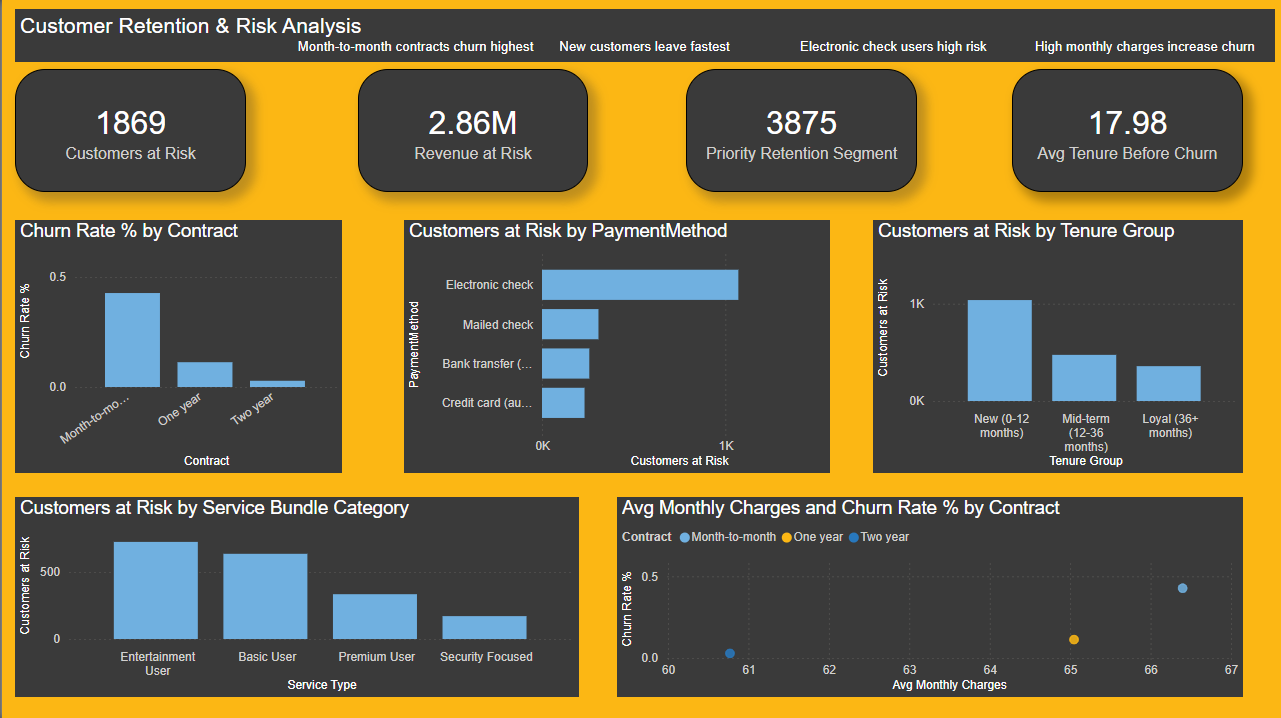

The page's visual inventory and layout, read from the dashboard file:
{"tool":"powerbi","page":{"name":"Customer Retention & Risk Analysis","canvas":[1280,720],"ordinal":3},"visuals":[{"type":"textbox","box":[13,9,1260,53],"z":0},{"type":"card","fields":{"Values":["WA_Fn-UseC_-Telco-Customer-Churn.Customers at Risk"]},"box":[13,69,231,123],"z":1},{"type":"card","fields":{"Values":["WA_Fn-UseC_-Telco-Customer-Churn.Revenue at Risk"]},"box":[356,69,230,123],"z":2},{"type":"card","fields":{"Values":["WA_Fn-UseC_-Telco-Customer-Churn.Priority Retention Segment"]},"box":[684,69,231,123],"z":3},{"type":"card","fields":{"Values":["WA_Fn-UseC_-Telco-Customer-Churn.Avg Tenure Before Churn"]},"box":[1010,69,231,123],"z":4},{"type":"columnChart","fields":{"Y":["WA_Fn-UseC_-Telco-Customer-Churn.Churn Rate %"],"Category":["WA_Fn-UseC_-Telco-Customer-Churn.Contract"]},"box":[13,220,327,253],"z":5},{"type":"clusteredBarChart","fields":{"Y":["WA_Fn-UseC_-Telco-Customer-Churn.Customers at Risk"],"Category":["WA_Fn-UseC_-Telco-Customer-Churn.PaymentMethod"]},"box":[402,220,426,253],"z":6},{"type":"columnChart","fields":{"Y":["WA_Fn-UseC_-Telco-Customer-Churn.Customers at Risk"],"Category":["WA_Fn-UseC_-Telco-Customer-Churn.Tenure Group"]},"box":[871,220,370,253],"z":7},{"type":"columnChart","title":"Customers at Risk by Service Bundle Category","fields":{"Y":["WA_Fn-UseC_-Telco-Customer-Churn.Customers at Risk"],"Category":["WA_Fn-UseC_-Telco-Customer-Churn.Service Type"]},"box":[13,497,564,200],"z":8},{"type":"scatterChart","fields":{"X":["WA_Fn-UseC_-Telco-Customer-Churn.Avg Monthly Charges"],"Y":["WA_Fn-UseC_-Telco-Customer-Churn.Churn Rate %"],"Series":["WA_Fn-UseC_-Telco-Customer-Churn.Contract"]},"box":[615,497,626,200],"z":9}]}

Visuals, with their boxes in screenshot pixels (x1, y1, x2, y2), scaled from the page's 1280x720 canvas onto the 1281x718 screenshot:
textbox: x1=13, y1=9, x2=1274, y2=62
card - WA_Fn-UseC_-Telco-Customer-Churn.Customers at Risk: x1=13, y1=69, x2=244, y2=191
card - WA_Fn-UseC_-Telco-Customer-Churn.Revenue at Risk: x1=356, y1=69, x2=586, y2=191
card - WA_Fn-UseC_-Telco-Customer-Churn.Priority Retention Segment: x1=685, y1=69, x2=916, y2=191
card - WA_Fn-UseC_-Telco-Customer-Churn.Avg Tenure Before Churn: x1=1011, y1=69, x2=1242, y2=191
columnChart - WA_Fn-UseC_-Telco-Customer-Churn.Churn Rate % x WA_Fn-UseC_-Telco-Customer-Churn.Contract: x1=13, y1=219, x2=340, y2=472
clusteredBarChart - WA_Fn-UseC_-Telco-Customer-Churn.Customers at Risk x WA_Fn-UseC_-Telco-Customer-Churn.PaymentMethod: x1=402, y1=219, x2=829, y2=472
columnChart - WA_Fn-UseC_-Telco-Customer-Churn.Customers at Risk x WA_Fn-UseC_-Telco-Customer-Churn.Tenure Group: x1=872, y1=219, x2=1242, y2=472
"Customers at Risk by Service Bundle Category" columnChart: x1=13, y1=496, x2=577, y2=695
scatterChart - WA_Fn-UseC_-Telco-Customer-Churn.Avg Monthly Charges x WA_Fn-UseC_-Telco-Customer-Churn.Churn Rate %: x1=615, y1=496, x2=1242, y2=695
